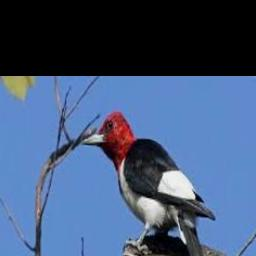Woodpecker: (81, 111, 215, 256)
